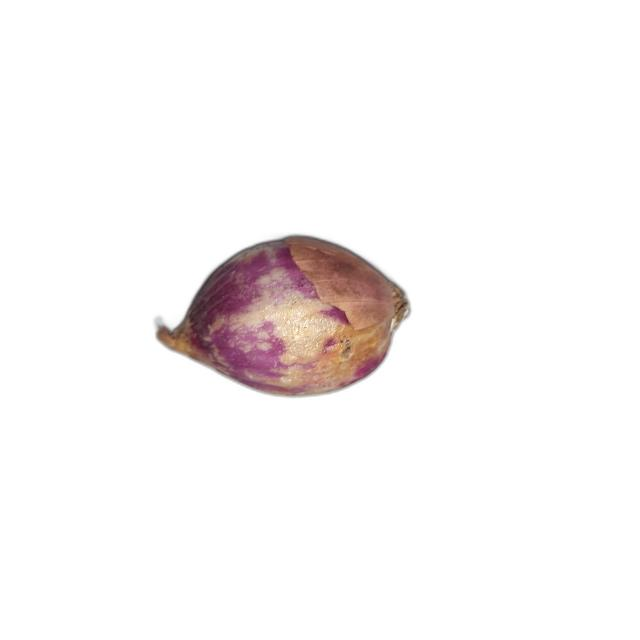onion: (156, 233, 413, 399)
